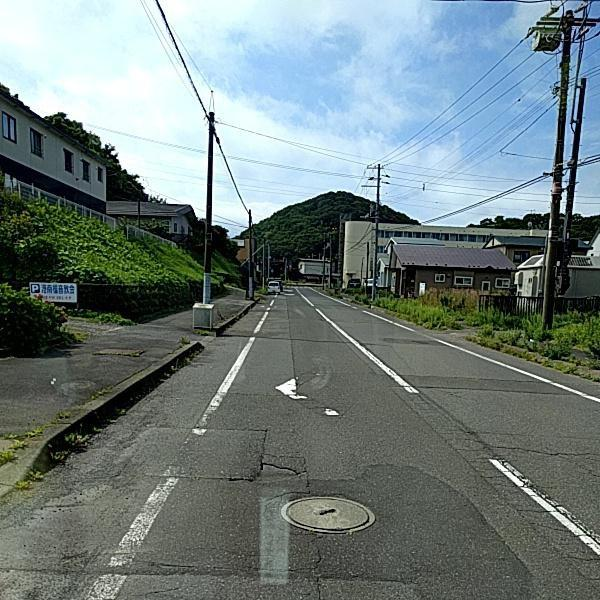pothole: (238, 459, 302, 482)
